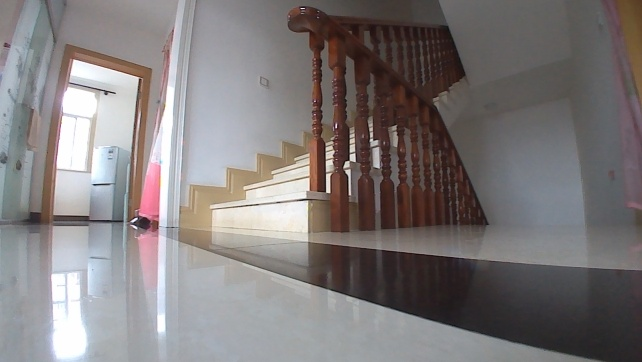refrigerator: (85, 144, 134, 222)
